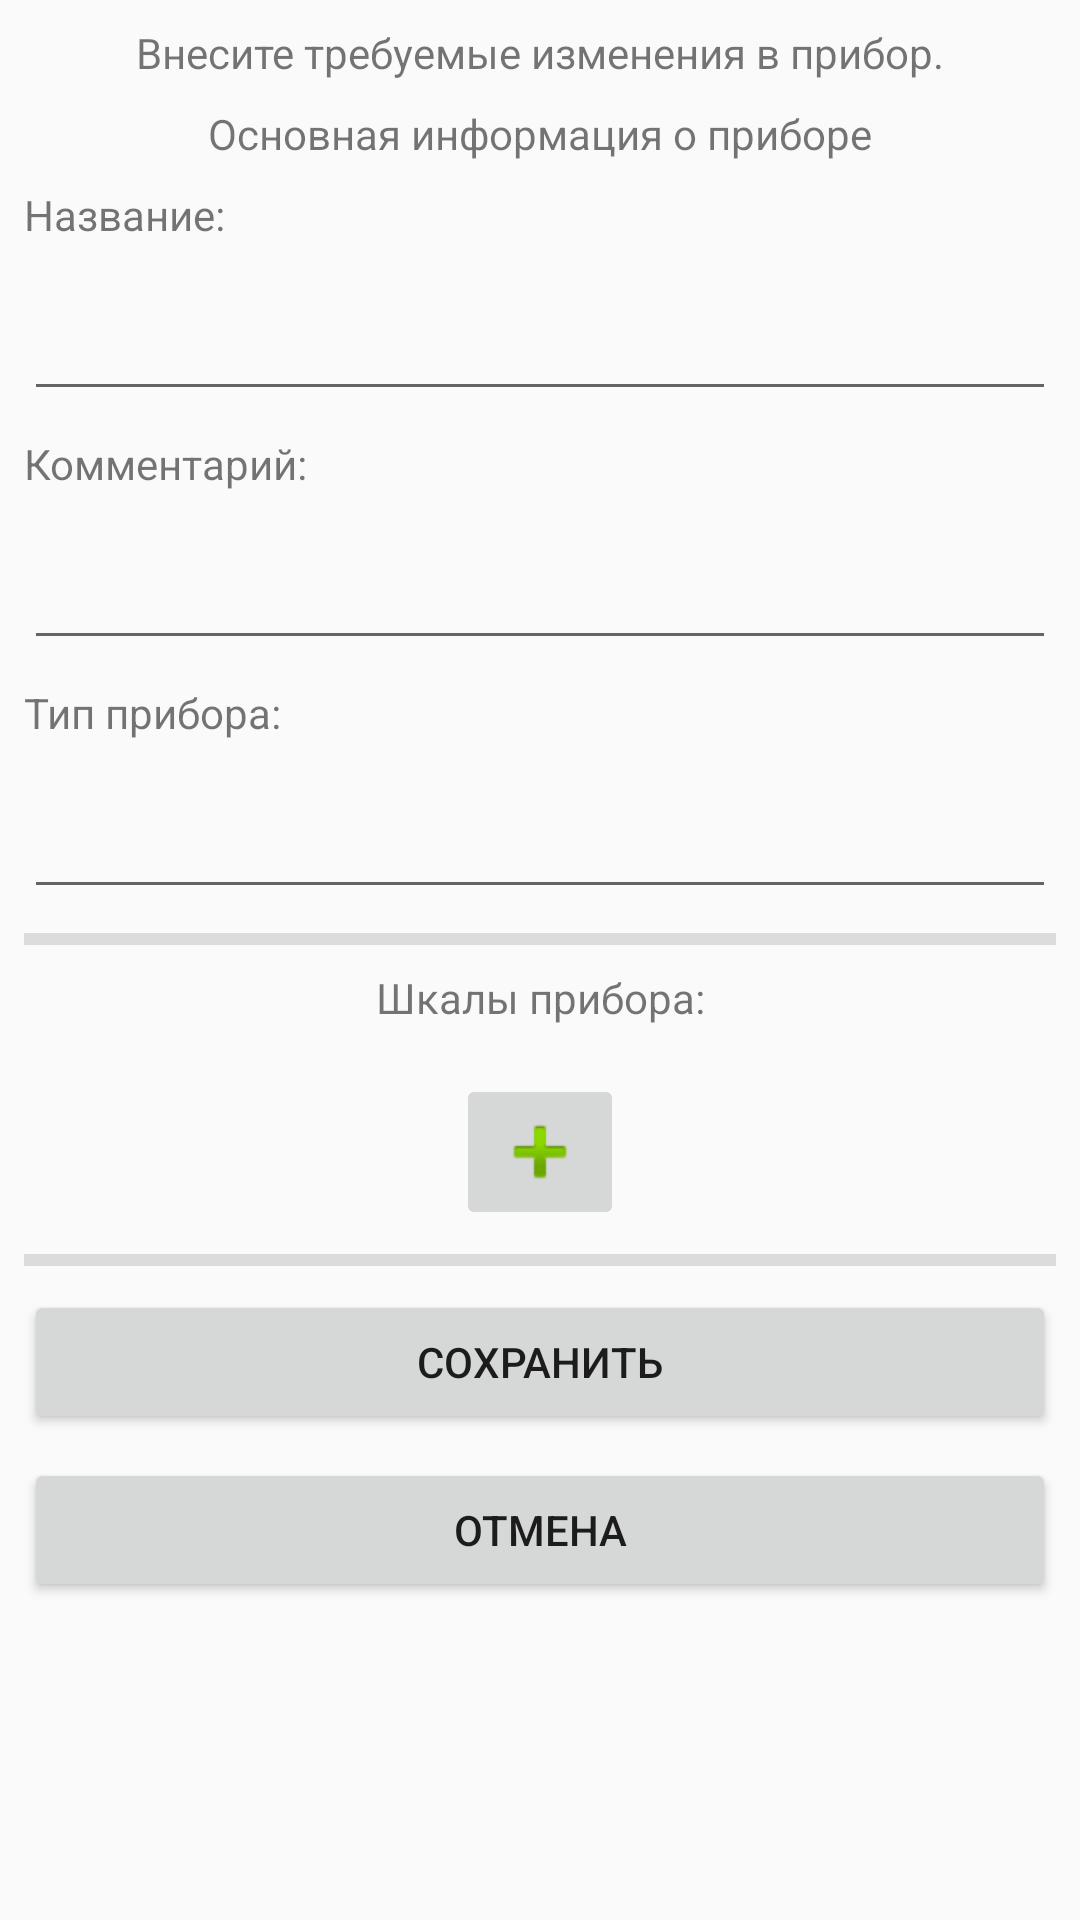

Locate icon controls on the screen. Image size 1080 x 1920, boxes as bbox(x1, y1, x2, y2).
add: bbox(468, 1092, 612, 1212)
